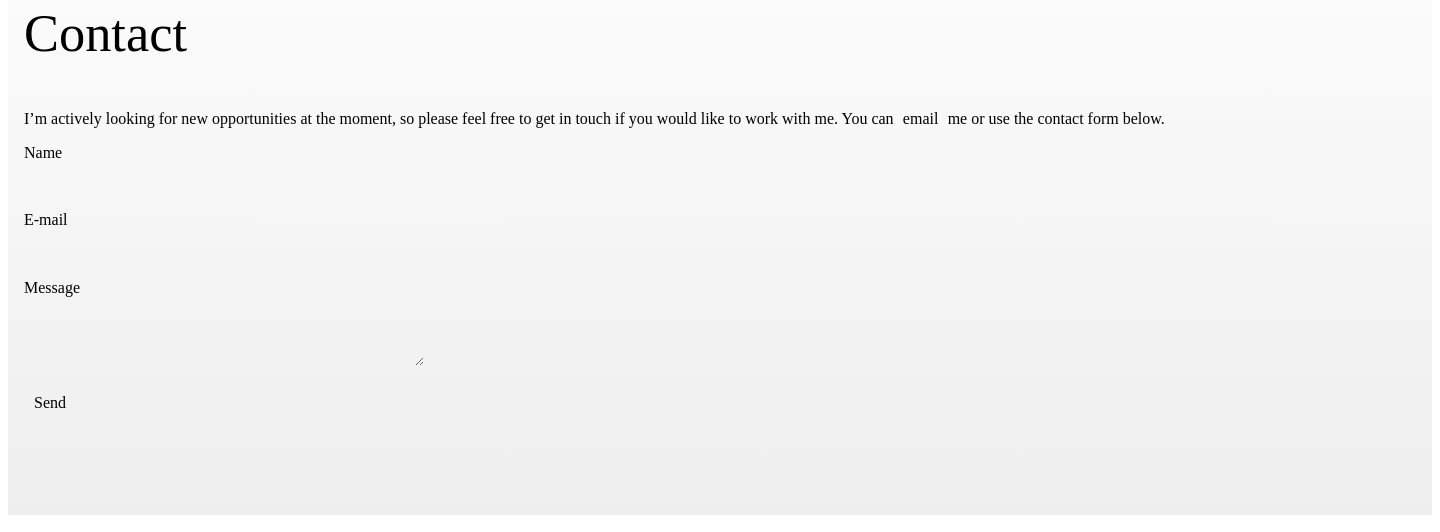
Test case: Contact Page › shows required errors when submitting with empty fields
Click the button "Send". click: (50, 403)
box: [24, 386, 76, 419]
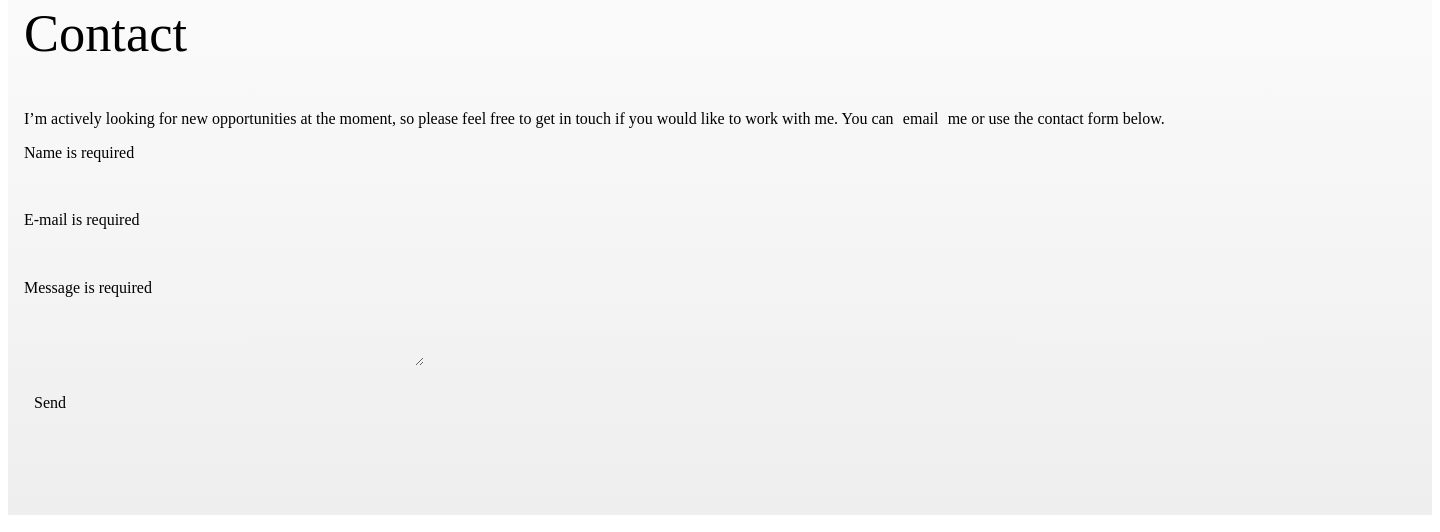
Expected: the text "is required" is shown 3 times, [66, 144, 134, 161]; [72, 211, 140, 228]; [84, 279, 152, 296]
